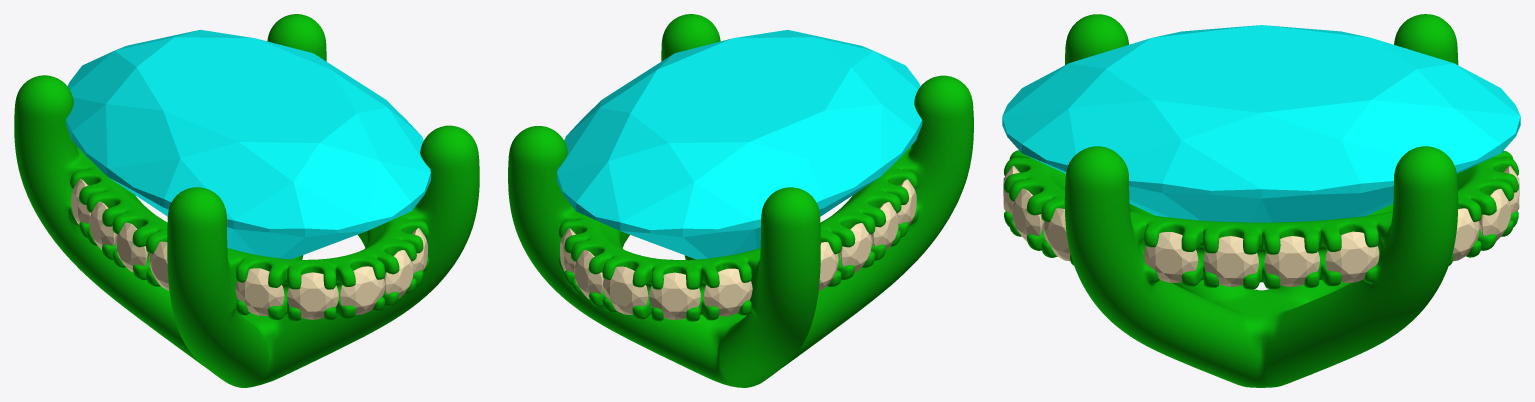
3 renders of one model, left to right at view 1: azimuth 30°, elevation 25°; view 2: azimuth 150°, elevation 25°; view 3: azimuth 270°, elevation 25°, orthographic. The views are drawn at different scales.
Parts seen in each view (by area): view 1: Diamond_Oval, Metal01, Diamond_Round.003, Diamond_Round.004, Diamond_Round.002, Diamond_Round.011, Diamond_Round.001, Diamond_Round.010, Diamond_Round.012, Diamond_Round.009; view 2: Diamond_Oval, Metal01, Diamond_Round.014, Diamond_Round.013, Diamond_Round.015, Diamond_Round.010, Diamond_Round.016, Diamond_Round.011, Diamond_Round.009, Diamond_Round.012, Diamond_Round.017; view 3: Diamond_Oval, Metal01, Diamond_Round.007, Diamond_Round.006, Diamond_Round.008, Diamond_Round.005, Diamond_Round.001, Diamond_Round.016, Diamond_Round.017, Diamond_Round.
Boxes of the visible parts, box(x1,y1,x2,y2) form: Diamond_Oval: box(66, 29, 430, 259); Metal01: box(14, 14, 479, 387); Diamond_Round.003: box(287, 272, 338, 319); Diamond_Round.004: box(235, 268, 284, 315); Diamond_Round.002: box(339, 266, 384, 314); Diamond_Round.011: box(115, 222, 148, 272); Diamond_Round.001: box(384, 250, 413, 298); Diamond_Round.010: box(89, 201, 116, 249); Diamond_Round.012: box(149, 241, 169, 290); Diamond_Round.009: box(71, 179, 91, 224); Diamond_Oval: box(557, 29, 922, 259); Metal01: box(508, 14, 973, 387); Diamond_Round.014: box(649, 272, 700, 320); Diamond_Round.013: box(703, 268, 752, 316); Diamond_Round.015: box(602, 266, 648, 314); Diamond_Round.010: box(839, 223, 872, 272); Diamond_Round.016: box(574, 250, 603, 299); Diamond_Round.011: box(871, 202, 898, 250); Diamond_Round.009: box(818, 242, 838, 290); Diamond_Round.012: box(896, 179, 916, 224); Diamond_Round.017: box(560, 228, 575, 274); Diamond_Oval: box(1002, 25, 1520, 222); Metal01: box(1004, 14, 1518, 387); Diamond_Round.007: box(1264, 236, 1319, 286); Diamond_Round.006: box(1203, 236, 1258, 286); Diamond_Round.008: box(1325, 231, 1379, 282); Diamond_Round.005: box(1144, 232, 1198, 282); Diamond_Round.001: box(1011, 188, 1043, 241); Diamond_Round.016: box(1479, 188, 1511, 241); Diamond_Round.017: box(1452, 208, 1479, 261); Diamond_Round: box(1043, 208, 1070, 261).
Size of the model in its own units: 7.48 by 6.78 by 10.25.
